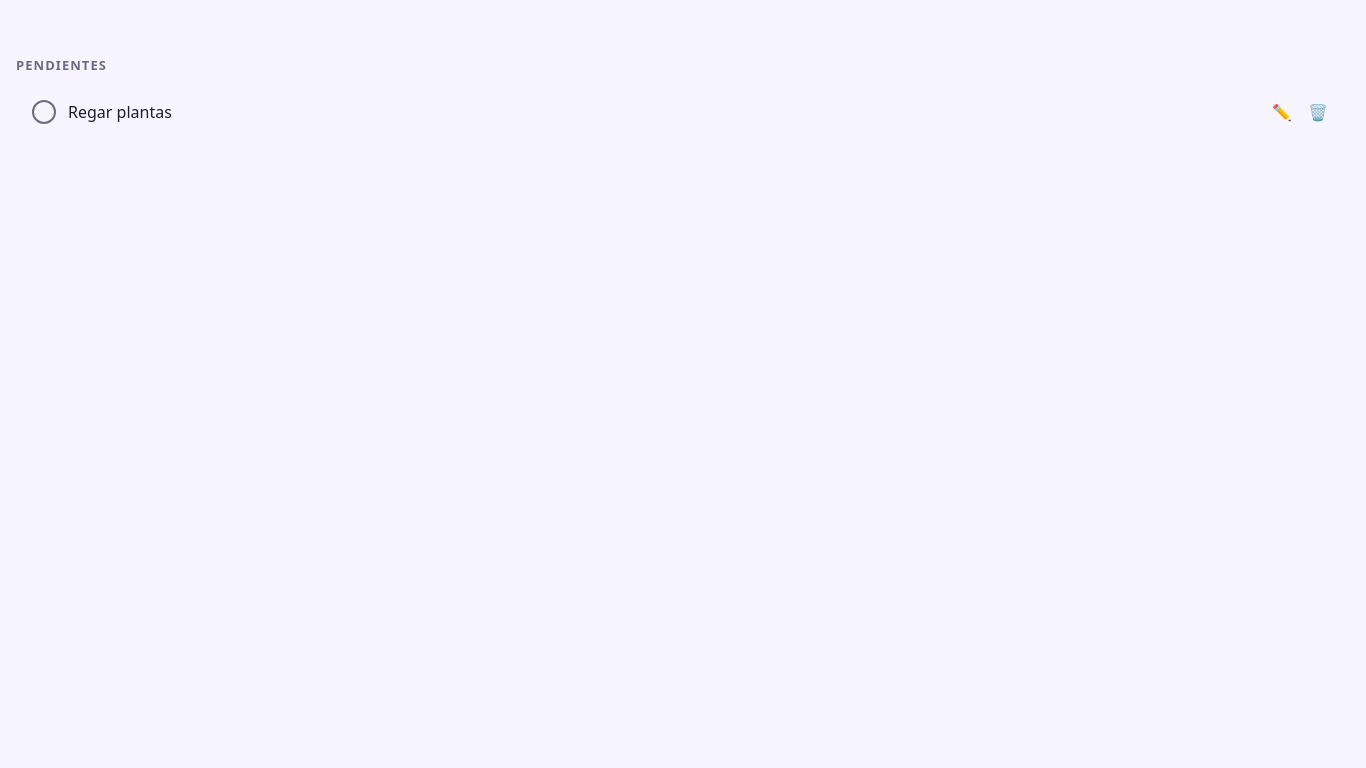
TaskRow (rendered through TaskList like production) › inline edit › saves on blur
Click the button named "Editar Regar plantas" at (1282, 112), box [1266,96,1298,128]
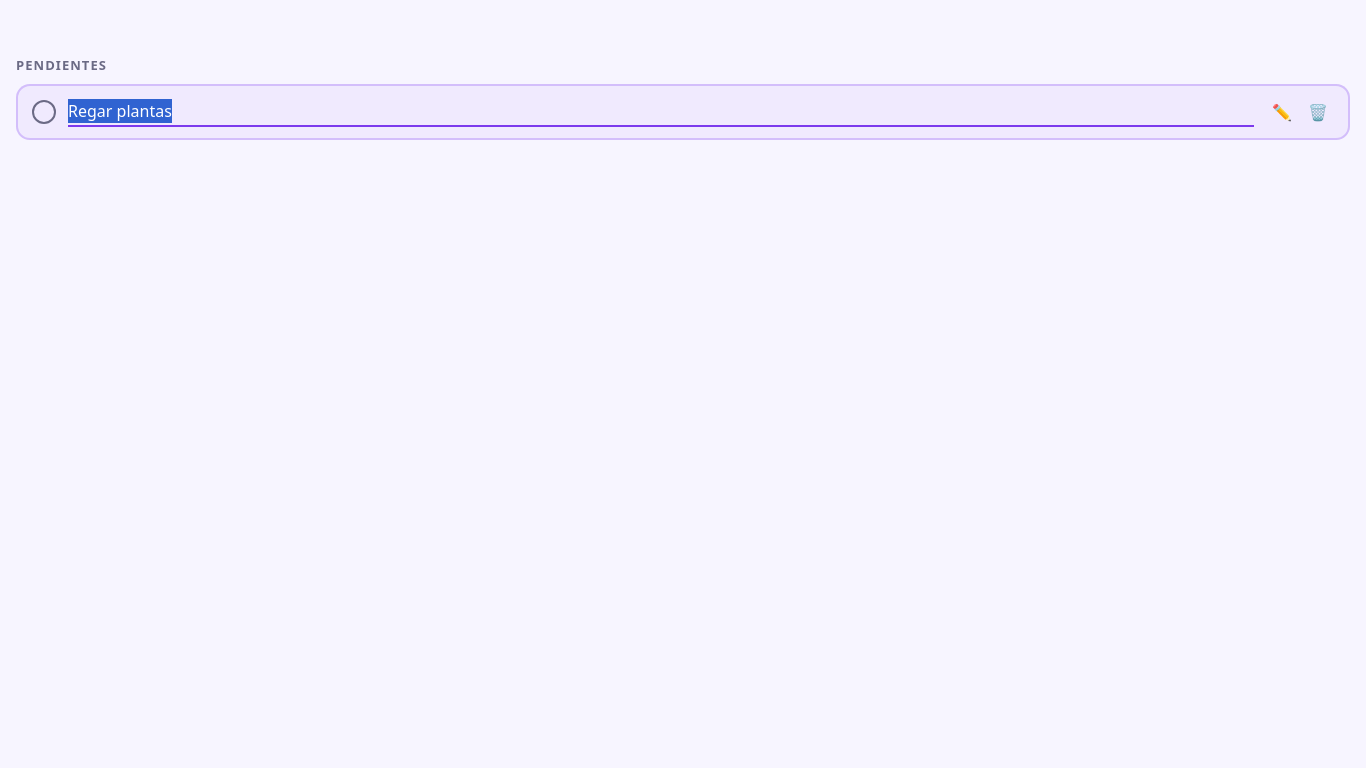
Replace the text in the field named "Editar tarea" with "Por blur" at (661, 112), box [68,96,1254,126]
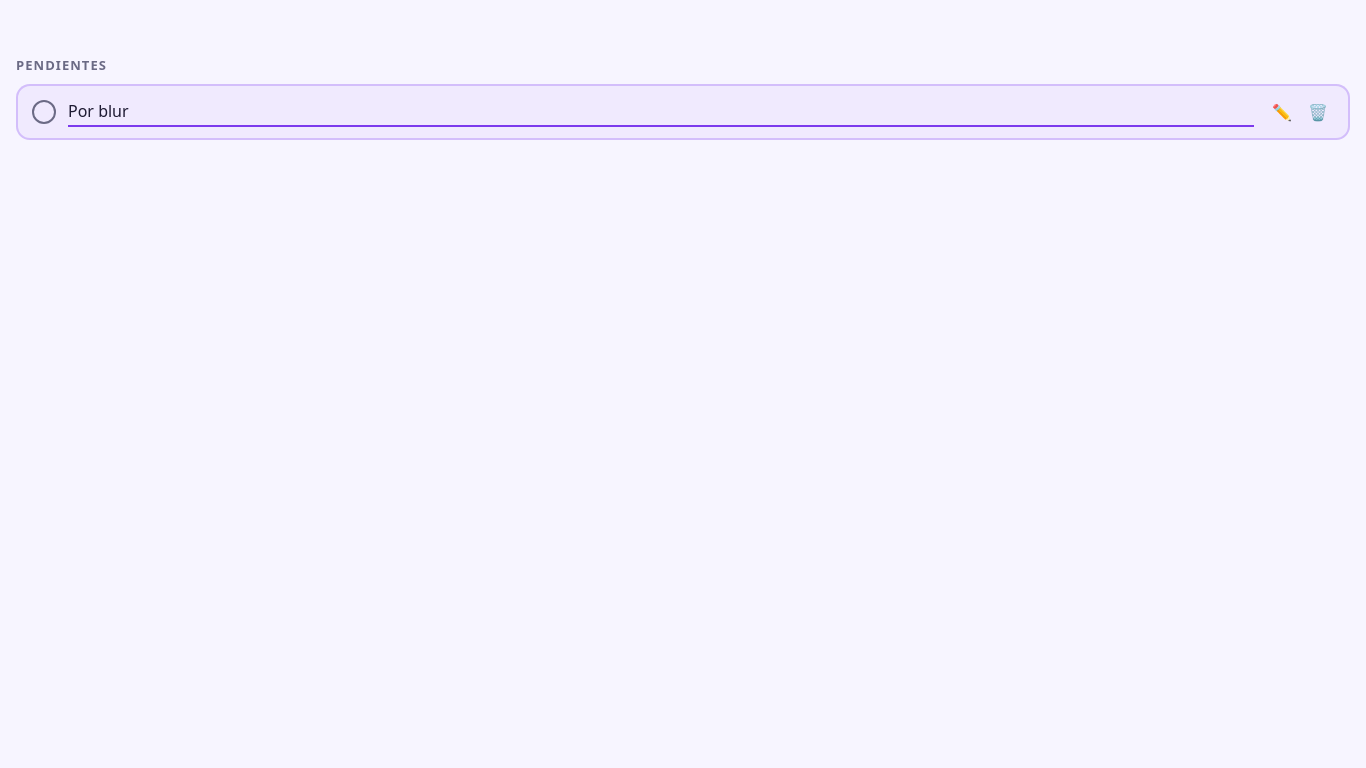
Click the element showing "Pendientes ✏️ 🗑️" at (683, 384), box [0,0,1365,767]
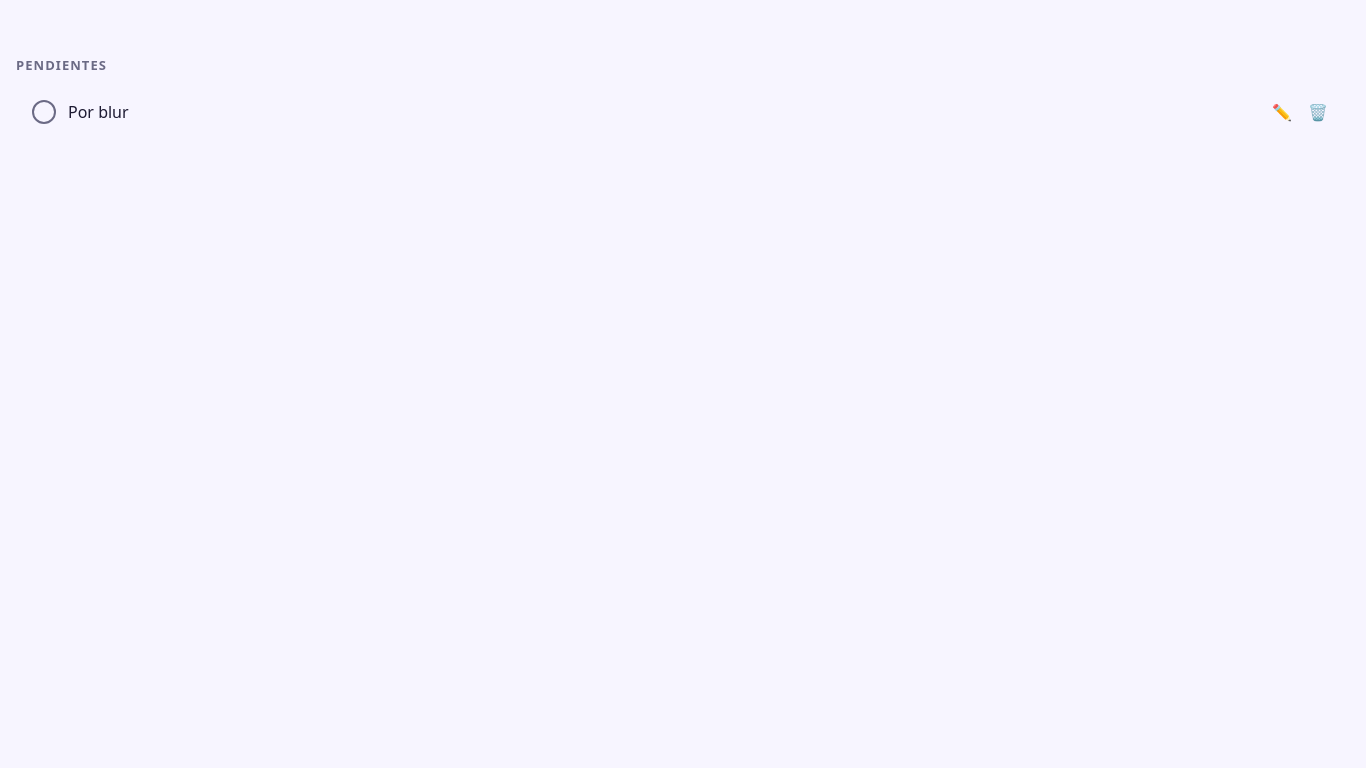
Expected: the button "Por blur" is shown, [68,100,1254,124]
